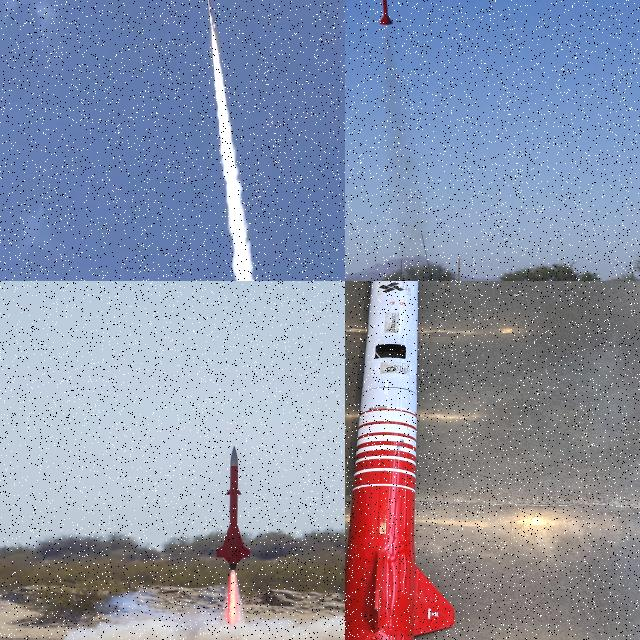Rocket: (345, 281, 456, 640), (217, 446, 250, 570), (378, 0, 393, 25), (207, 0, 215, 30)
